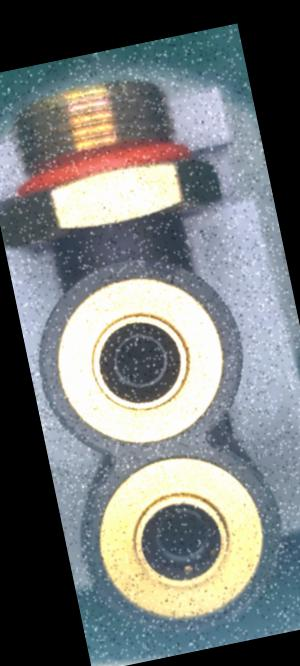bump: (140, 254, 183, 283)
white mark: (102, 220, 117, 236)
